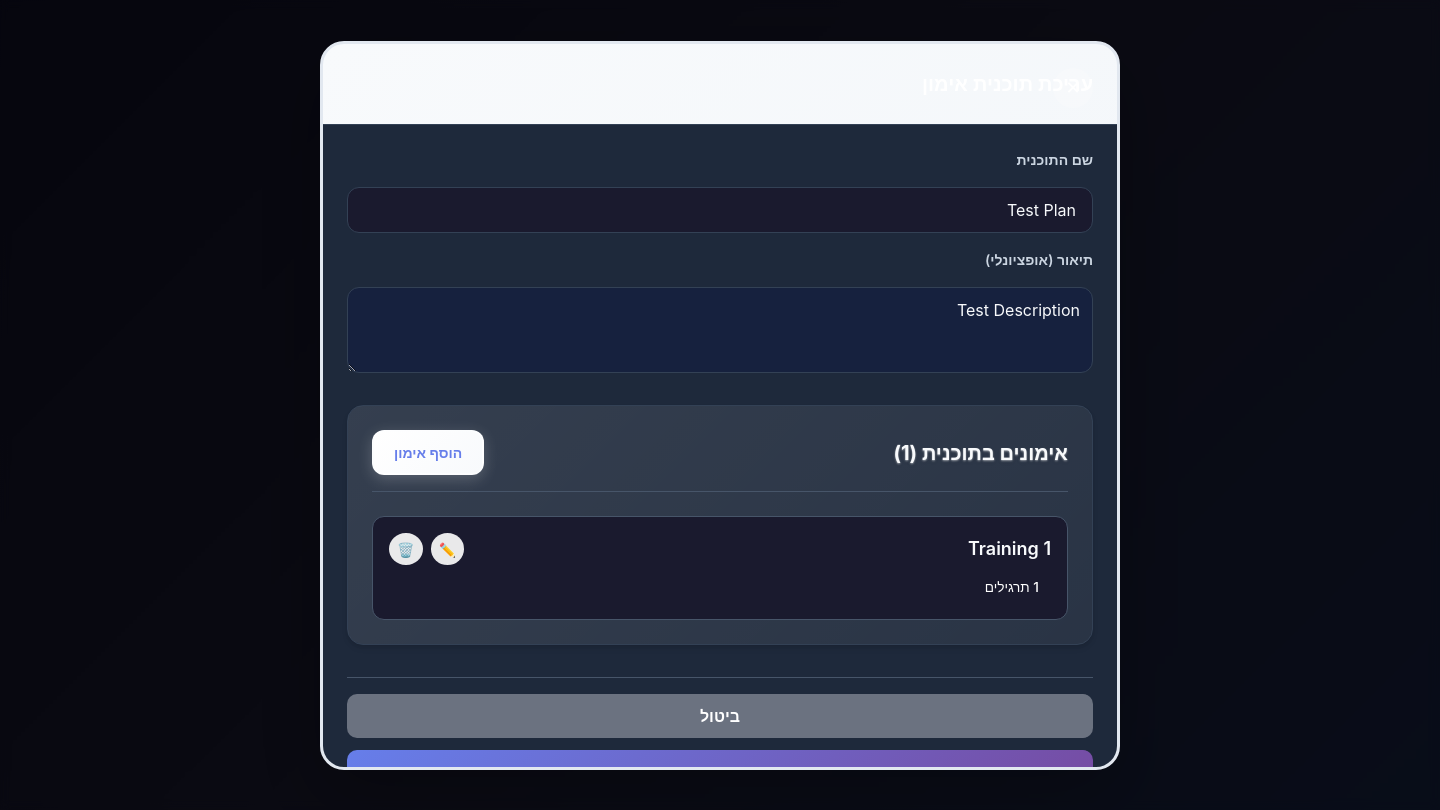
Scenario: EditTrainingPlan - Bug Fixes › Bug: Missing Add Training Button › should be able to add multiple trainings to the same plan
Expected: the heading "Training 1" is shown, [968,535,1051,564]
// Click add training button
Step 1. Click the button "הוסף אימון" → (428,453), box [372,430,484,475]
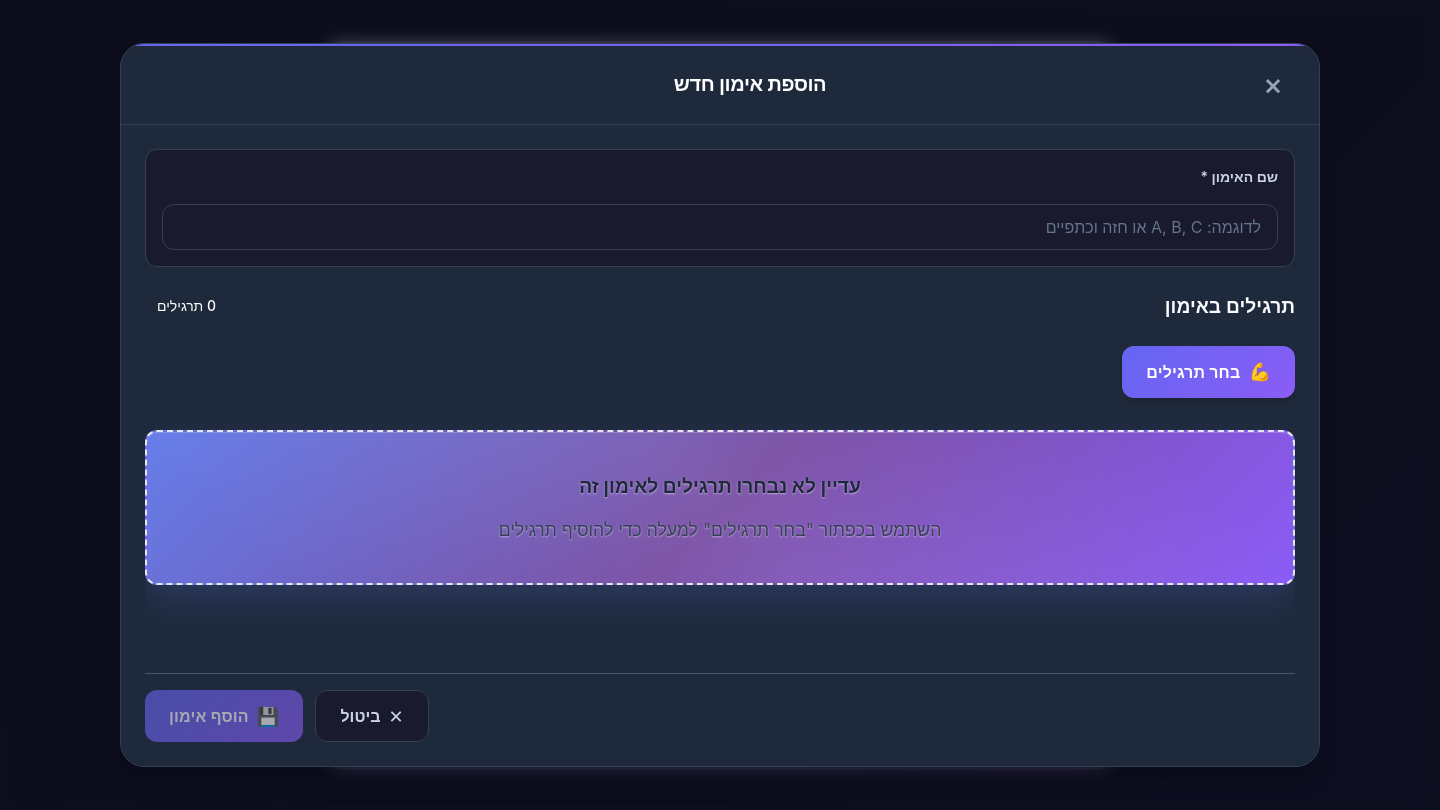
Expected: the heading "הוספת אימון חדש" is shown, [674,68,826,100]
